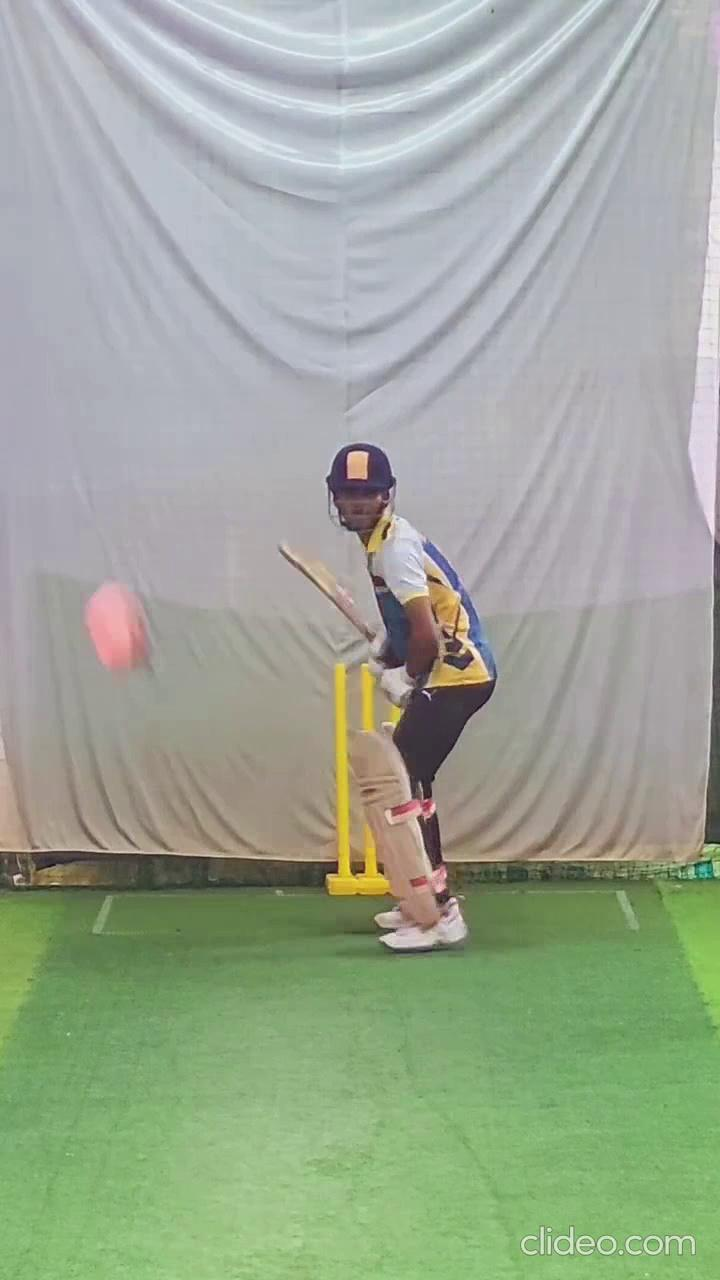bat: (271, 526, 383, 650)
